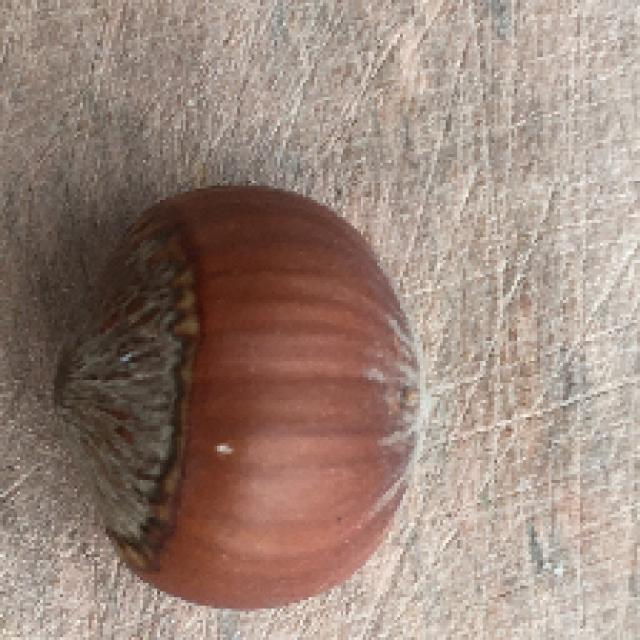qualityHazelnut: (37, 178, 449, 614)
